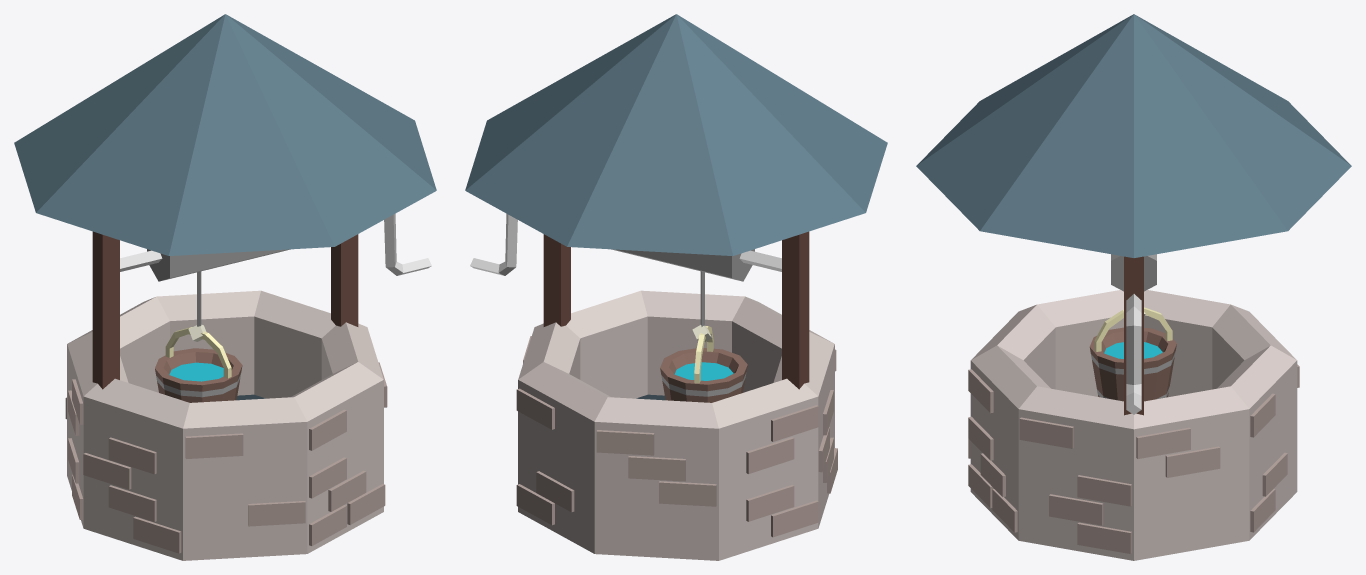
The model's file is Building_020.glb.
3 views of the same model, side by side, from view 1: azimuth 30°, elevation 25°; view 2: azimuth 150°, elevation 25°; view 3: azimuth 270°, elevation 25° (orthographic).
Visible parts, largest first — view 1: Building_020; view 2: Building_020; view 3: Building_020.
Boxes of the visible parts, x1,y1,x2,y2 form: Building_020: (14,14,436,560); Building_020: (465,14,887,560); Building_020: (916,14,1351,560).
Bounding box in the file's own units: 4.8 × 5.62 × 4.64.
Materials: 1 (1 with a texture image).
